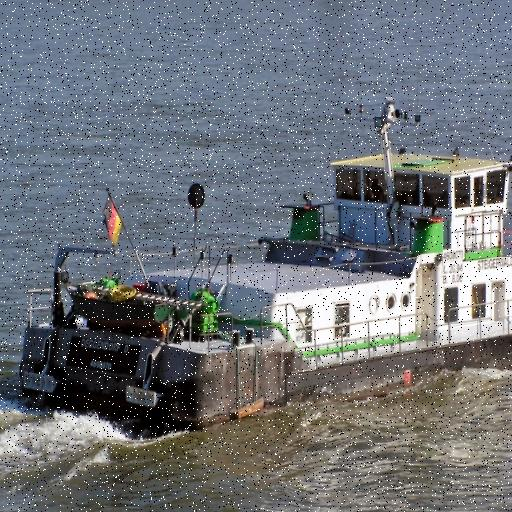tugboat: (13, 95, 512, 447)
